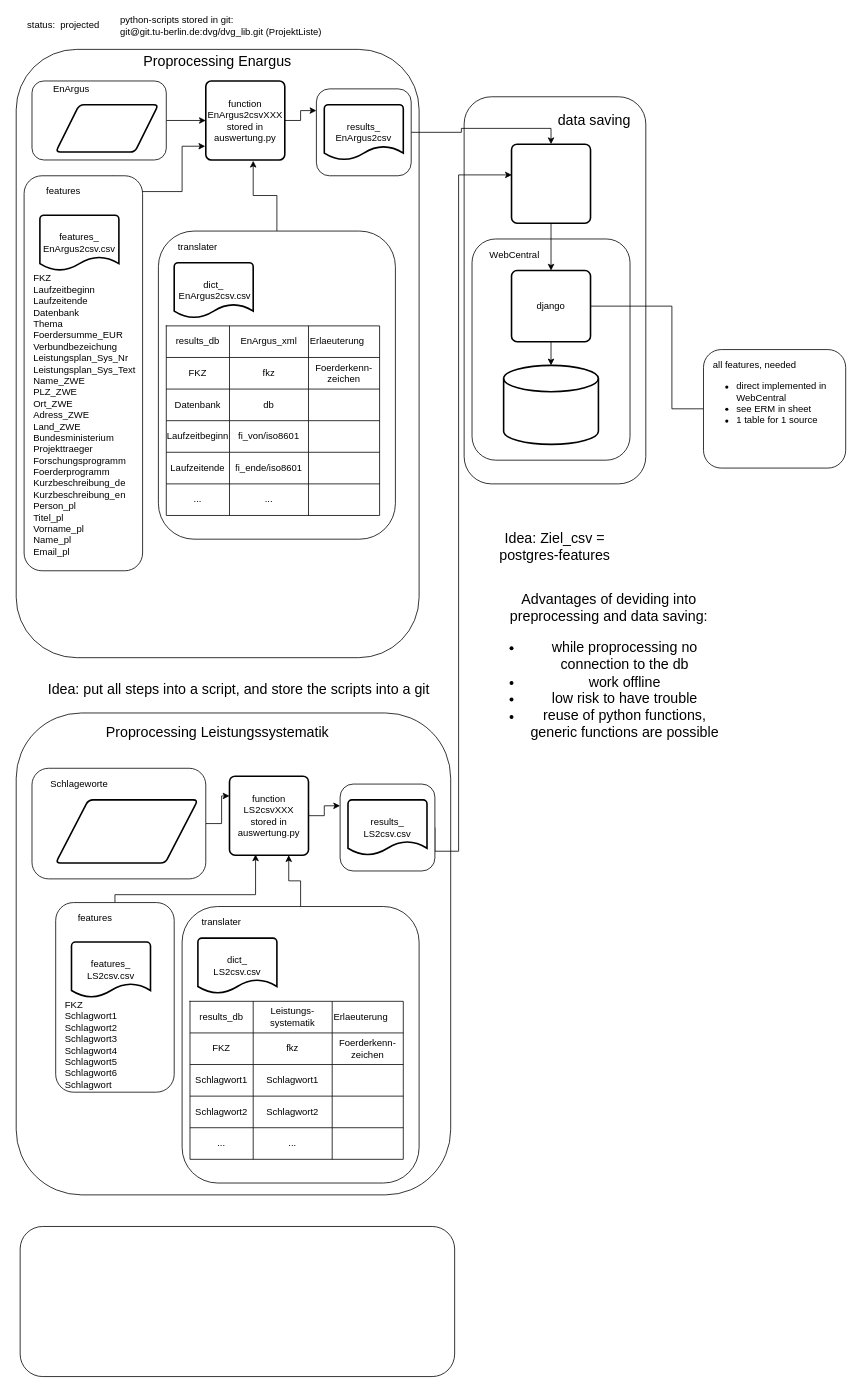
Image size: 867x1390. Some labels were removed from this diagram. The box of each missing label's shape, as (x1, y1, x2, y2) in pixels:
210204_ enargusdata_ last.xml: (55, 103, 159, 152)
function csv2postgresXXX stored in auswertung.py: (510, 143, 591, 224)
postgres-db: (502, 364, 599, 445)
Proprocessing Fragebogen 2021: (19, 1226, 455, 1377)
ZE_fuer_BF_ enargus_ergaenzt_ Auswahl_rst_fc.xlsx: (55, 799, 198, 863)
